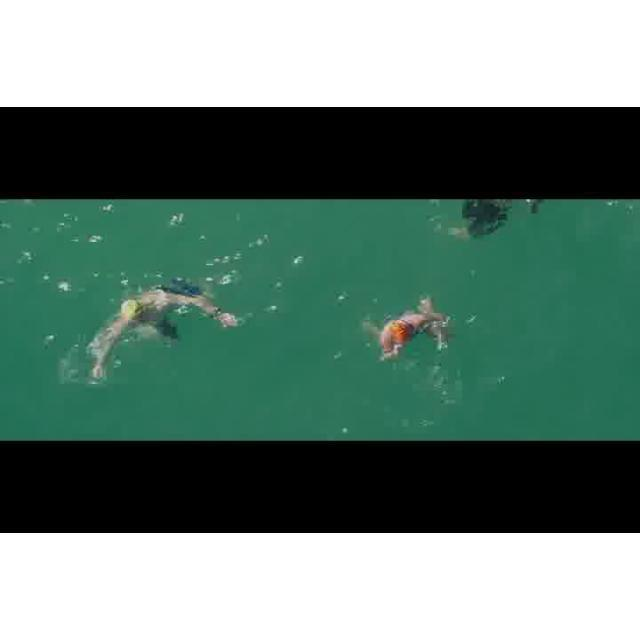human: (93, 286, 237, 392), (361, 296, 458, 361)
